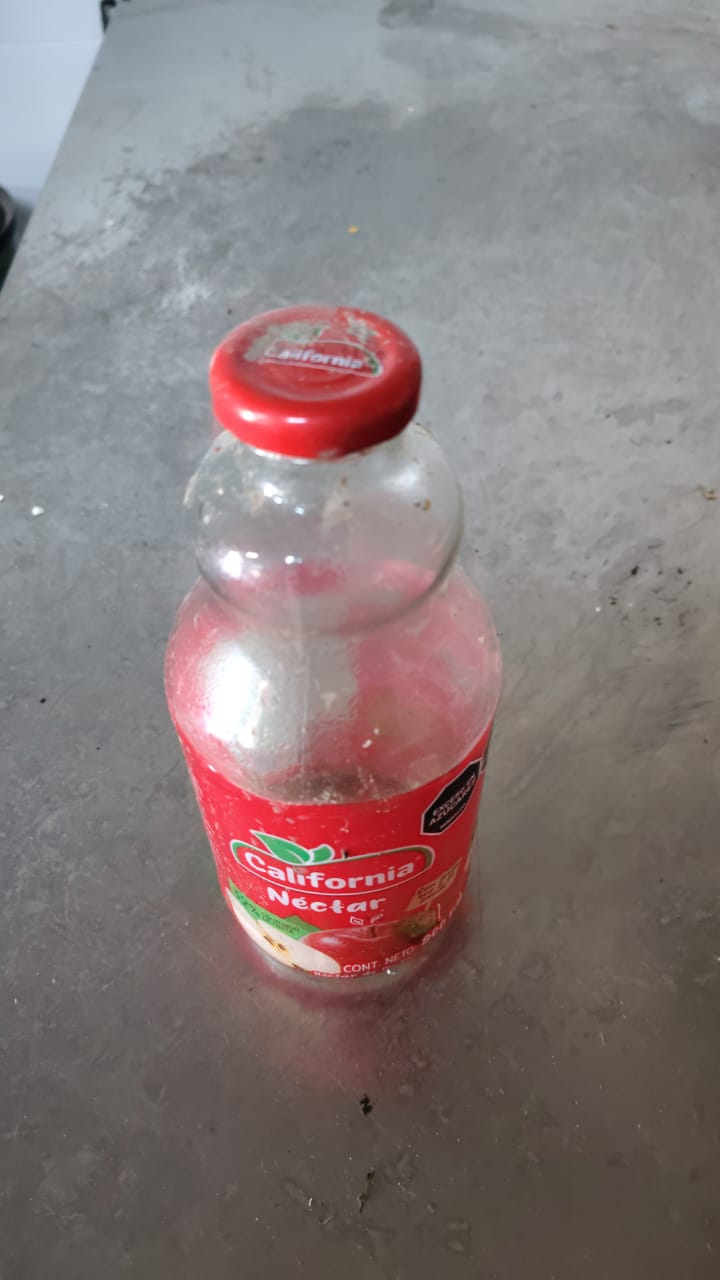Metal: (214, 305, 421, 443)
Vidrio: (161, 443, 505, 989)
